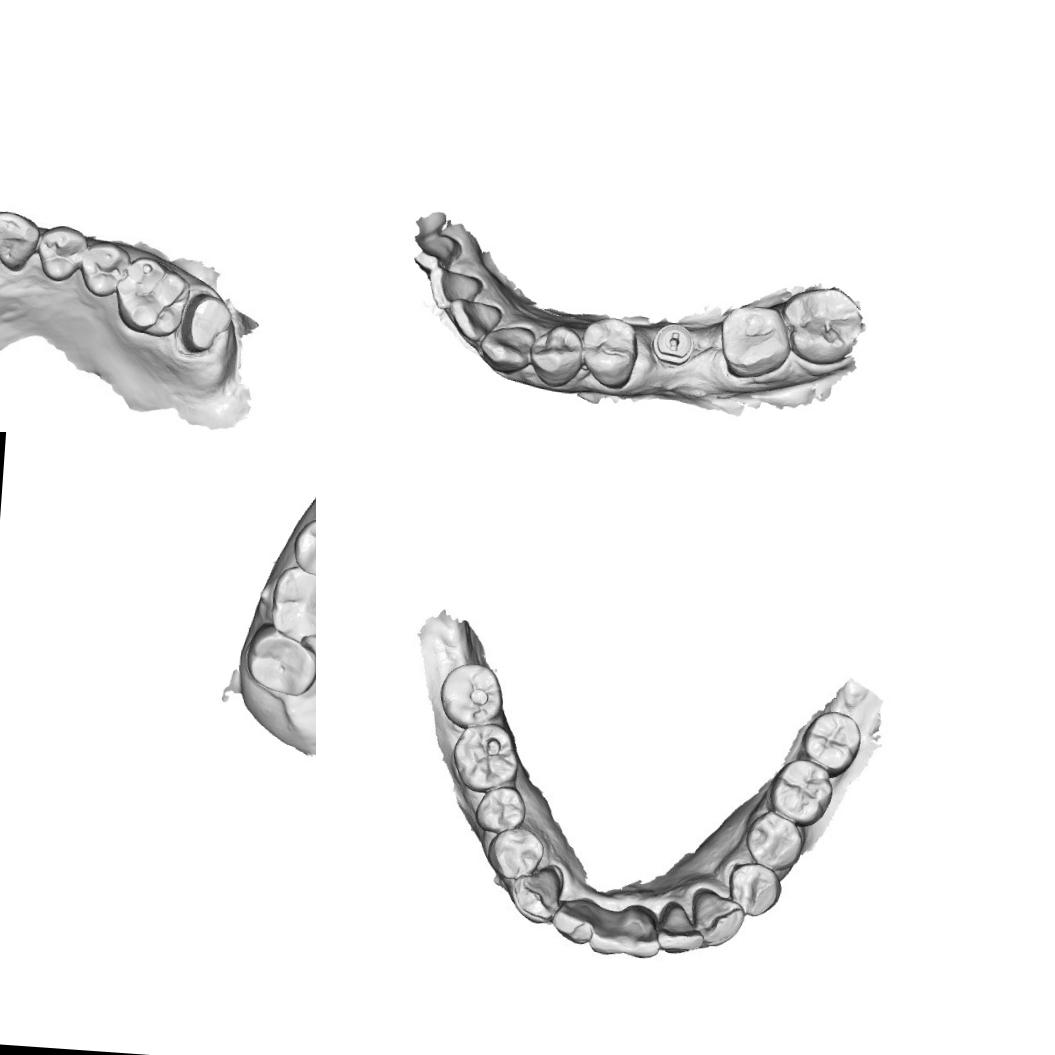canine: (688, 884, 746, 950), (508, 860, 564, 928), (477, 316, 534, 379), (0, 206, 40, 273)
crown: (177, 288, 238, 356)
implant_minus: (650, 322, 696, 366)
incisor: (652, 898, 708, 958), (424, 265, 490, 314), (446, 298, 508, 350), (546, 894, 598, 951), (619, 900, 664, 962), (409, 230, 462, 274), (586, 905, 626, 958)
molar: (113, 253, 189, 338), (791, 284, 864, 362), (244, 621, 316, 700), (448, 720, 524, 794), (715, 301, 787, 374), (434, 658, 507, 730), (798, 708, 866, 779), (767, 756, 835, 827), (265, 563, 316, 650)
premolar: (578, 314, 640, 390), (72, 237, 132, 299), (726, 861, 784, 920), (744, 814, 804, 871), (486, 824, 542, 884), (528, 323, 581, 386), (469, 781, 530, 835), (36, 222, 84, 284), (290, 515, 316, 579)
